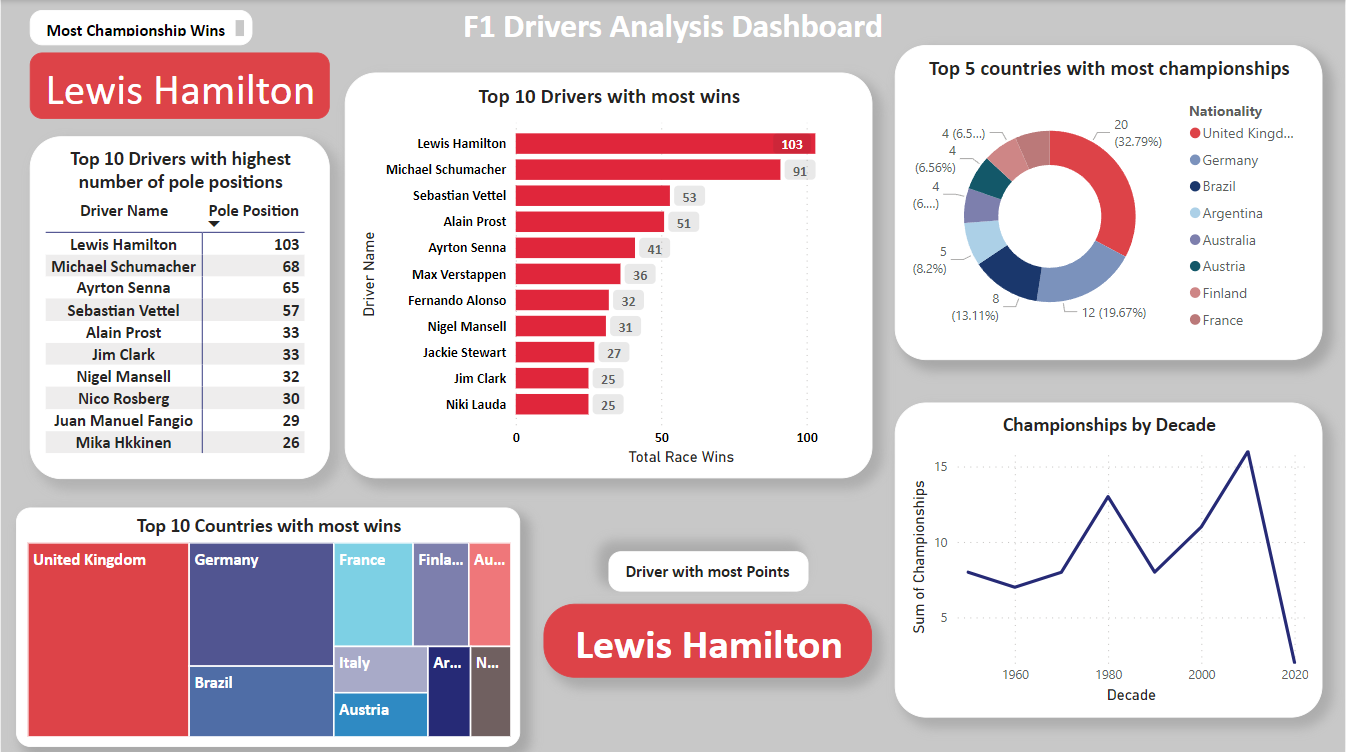

The dashboard page shown, as its layout file describes it:
{"tool":"powerbi","page":{"name":"Page 1","canvas":[1280,720],"ordinal":0},"visuals":[{"type":"textbox","box":[428.4,0,422.5,50],"z":0},{"type":"pivotTable","title":"Top 10 Drivers with highest number of pole positions","fields":{"Rows":["f1_cleaned.Driver"],"Values":["f1_cleaned.Pole_Positions"]},"box":[27.4,129.7,285.6,326.1],"z":1000},{"type":"clusteredBarChart","title":"Top 10 Drivers with most wins","fields":{"Category":["f1_cleaned.Driver"],"Y":["f1_cleaned.Race_Wins"]},"box":[327.3,69,502.2,386.8],"z":2000},{"type":"card","fields":{"Values":["f1_cleaned.Driver"]},"box":[27.4,50,285.6,63.1],"z":3000},{"type":"textbox","box":[27.4,9.5,211.8,33.3],"z":4000},{"type":"donutChart","title":"Top 5 countries with most championships","fields":{"Category":["f1_cleaned.Nationality"],"Y":["f1_cleaned.Championships"]},"box":[850.9,42.8,407,299.9],"z":5000},{"type":"lineChart","title":"Championships by Decade","fields":{"Category":["f1_cleaned.Decade"],"Y":["f1_cleaned.Championships"]},"box":[850.9,383.2,407,299.9],"z":6000},{"type":"treemap","title":"Top 10 Countries with most wins","fields":{"Group":["f1_cleaned.Nationality"],"Values":["f1_cleaned.Race_Wins"]},"box":[14.5,483.6,480,227.9],"z":7000},{"type":"card","fields":{"Values":["f1_cleaned.Driver"]},"box":[516.5,574.8,313,70.2],"z":8000},{"type":"textbox","box":[578.4,524.8,190.4,38.1],"z":9000}]}

Visuals, with their boxes in screenshot pixels (x1, y1, x2, y2), scaled from the page's 1280x720 canvas onto the 1346x752 screenshot:
textbox: bbox(450, 0, 895, 52)
"Top 10 Drivers with highest number of pole positions" pivotTable: bbox(29, 135, 329, 476)
"Top 10 Drivers with most wins" clusteredBarChart: bbox(344, 72, 872, 476)
card - f1_cleaned.Driver: bbox(29, 52, 329, 118)
textbox: bbox(29, 10, 252, 45)
"Top 5 countries with most championships" donutChart: bbox(895, 45, 1323, 358)
"Championships by Decade" lineChart: bbox(895, 400, 1323, 713)
"Top 10 Countries with most wins" treemap: bbox(15, 505, 520, 743)
card - f1_cleaned.Driver: bbox(543, 600, 872, 674)
textbox: bbox(608, 548, 808, 588)
